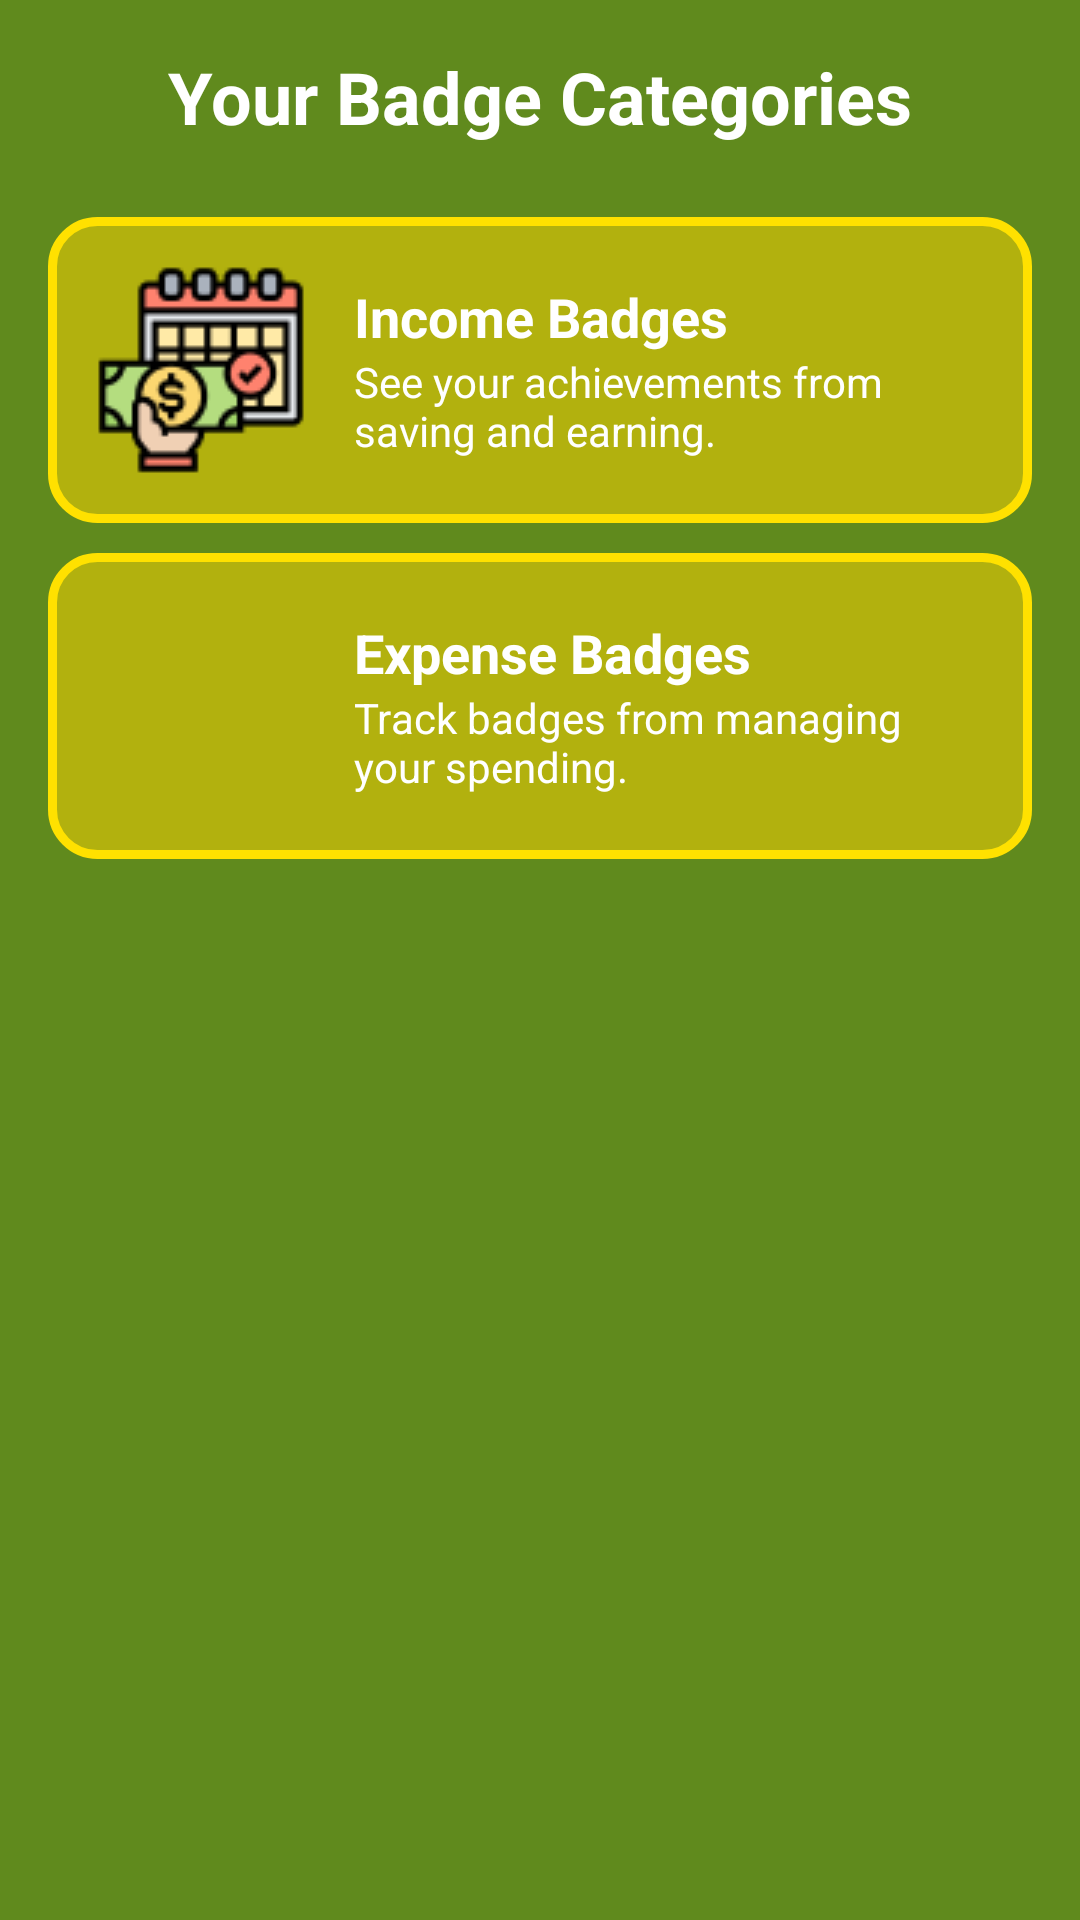

Screen size 1080×1920. Icon name, then its center in pixels as [x,y]:
salary: [201,370]
